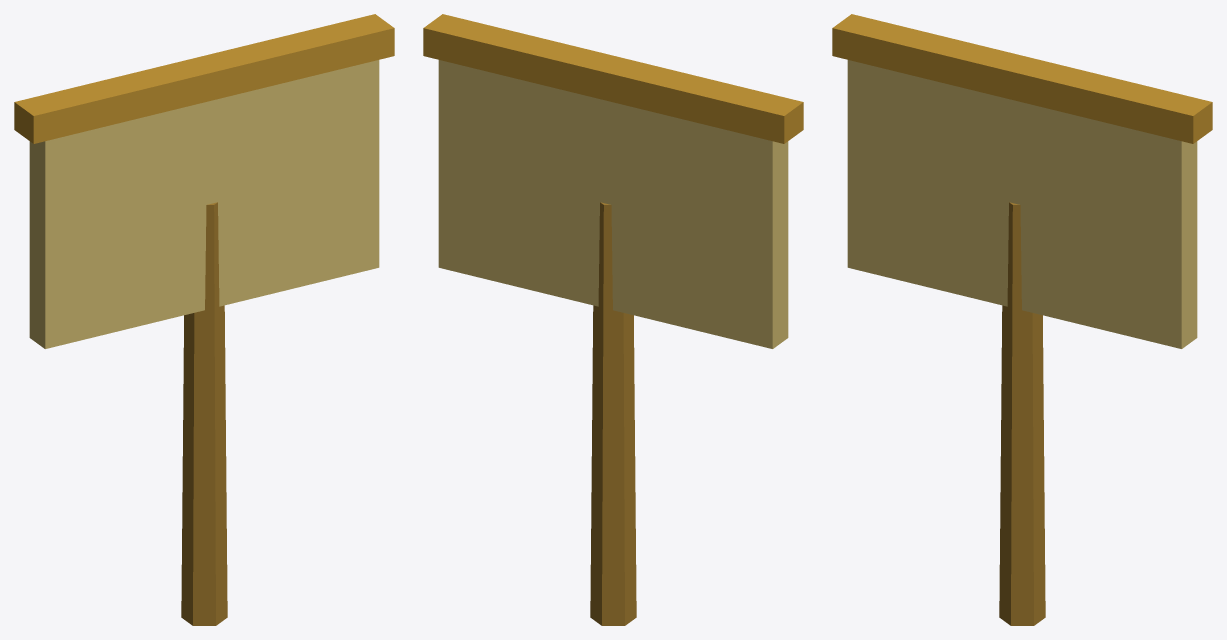
File: mastery_sign_gold.glb
The picture shows the model from 3 angles, left to right: view 1: azimuth 30°, elevation 25°; view 2: azimuth 150°, elevation 25°; view 3: azimuth 330°, elevation 25°; orthographic projection.
Parts seen in each view (by area): view 1: decor-mastery_sign_gold; view 2: decor-mastery_sign_gold; view 3: decor-mastery_sign_gold.
Part boxes in pixels (<box>): decor-mastery_sign_gold: <box>14,14,394,625</box>; decor-mastery_sign_gold: <box>423,14,803,625</box>; decor-mastery_sign_gold: <box>832,14,1212,625</box>.
Bounding box in the file's own units: 1.08 × 1.58 × 0.12.
